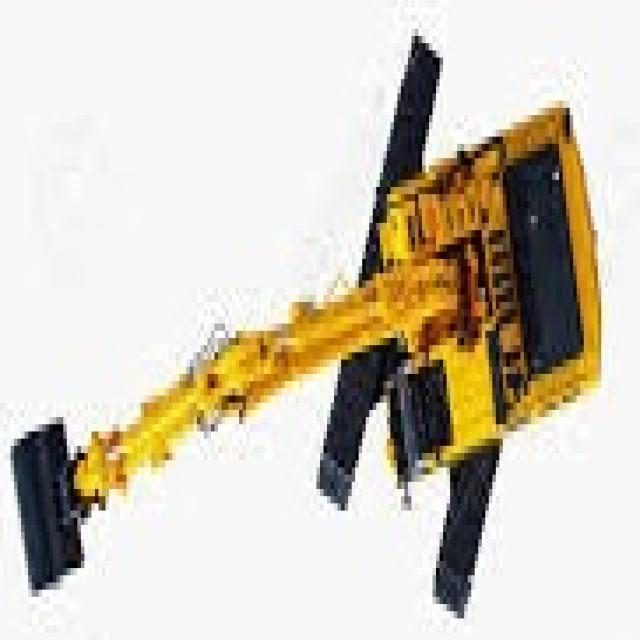excavator: (4, 23, 640, 633)
